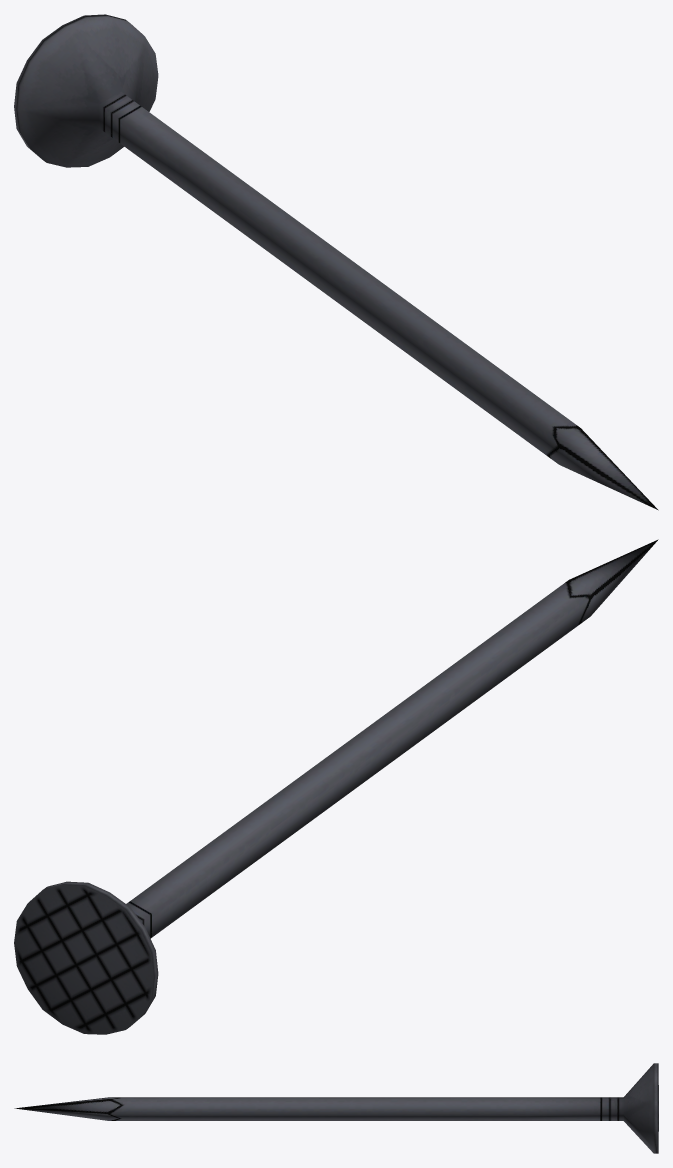
The model's file is wpn_nail.glb.
3 views of the same model, one above another, from view 1: azimuth 30°, elevation 25°; view 2: azimuth 150°, elevation 25°; view 3: azimuth 270°, elevation 25° (orthographic). The views are drawn at different scales.
Parts seen in each view (by area): view 1: SK_WP_023_00; view 2: SK_WP_023_00; view 3: SK_WP_023_00.
Boxes of the visible parts, left/top/right/bottom form: SK_WP_023_00: left=14, top=14, right=658, bottom=510; SK_WP_023_00: left=14, top=539, right=658, bottom=1034; SK_WP_023_00: left=14, top=1063, right=658, bottom=1153.
Bounding box in the file's own units: 0.017 × 0.0172 × 0.1207.
2 materials, 2 textured.
